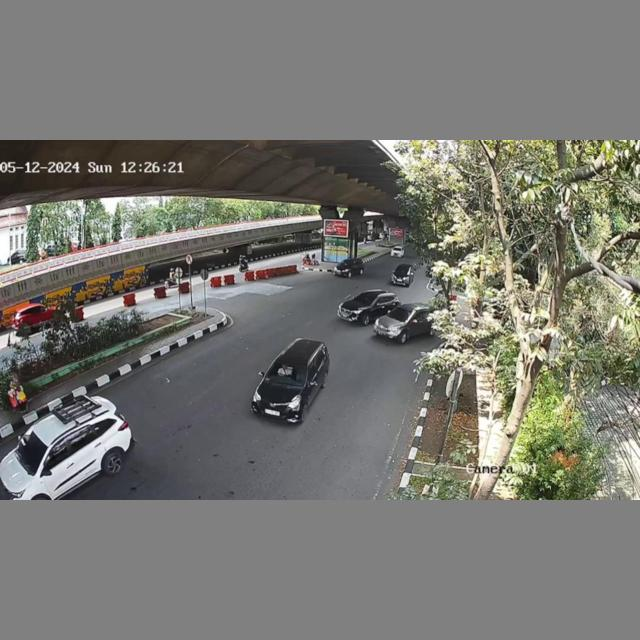windshield: (267, 360, 309, 393)
